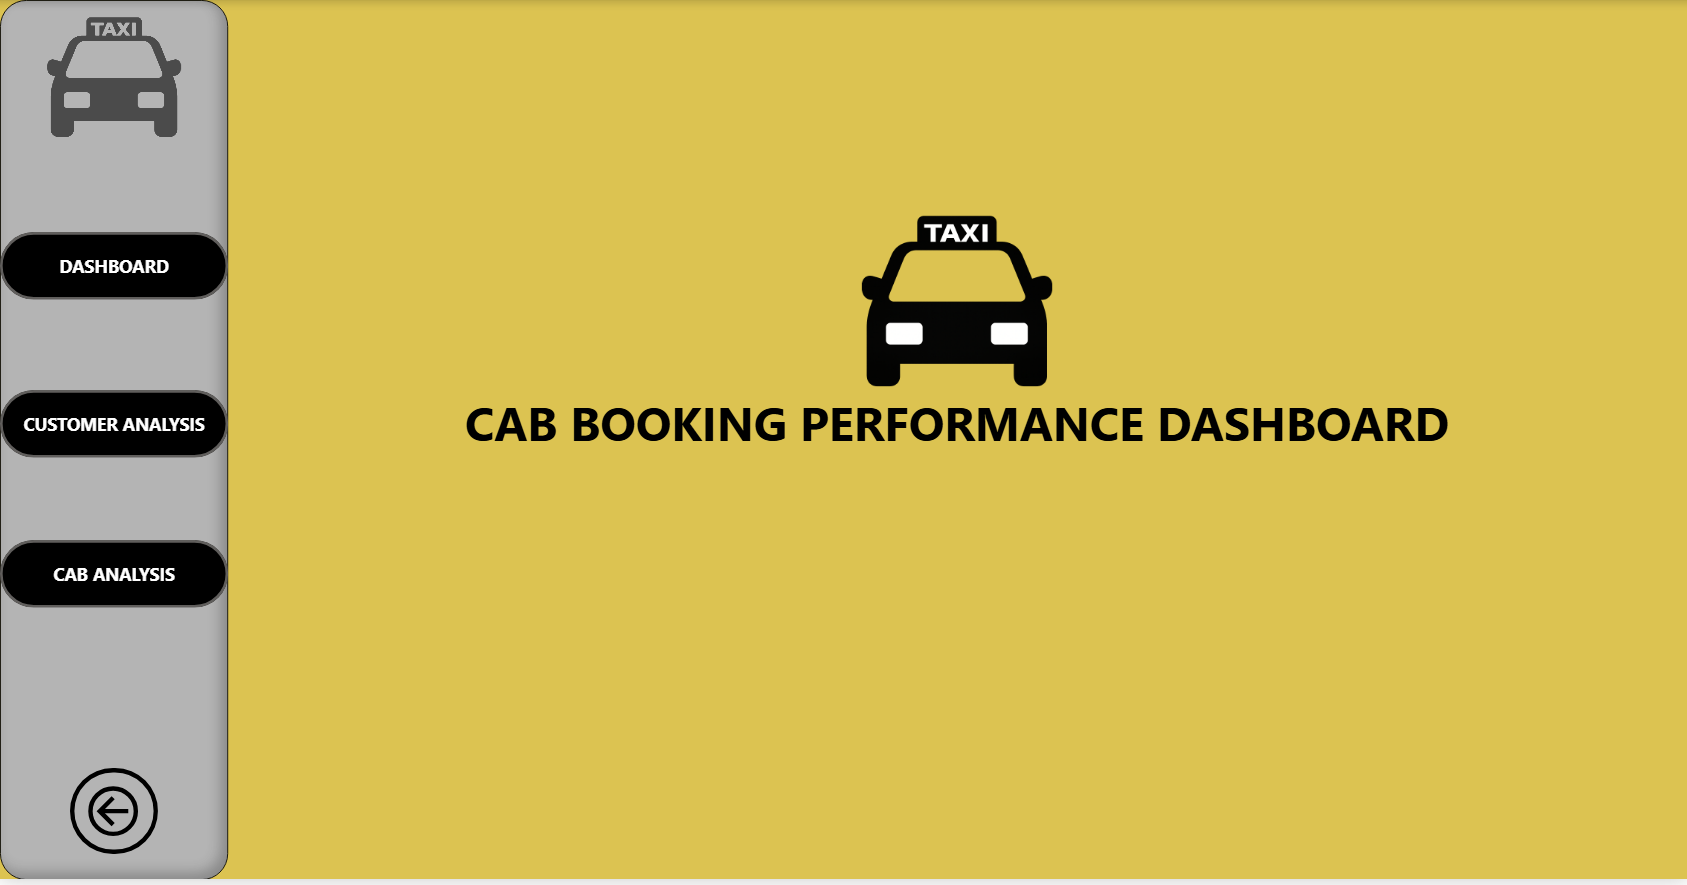

The page's visual inventory and layout, read from the dashboard file:
{"tool":"powerbi","page":{"name":"HOME","canvas":[1920,1000],"ordinal":0},"visuals":[{"type":"textbox","box":[0,0,259.3,1000.9],"z":0},{"type":"actionButton","box":[0,264.3,259.5,76.9],"z":1000},{"type":"actionButton","box":[0,444.6,259.5,76.9],"z":2000},{"type":"actionButton","box":[0,615.2,259.5,76.9],"z":3000},{"type":"image","box":[0,11.4,259.3,152.4],"z":4000},{"type":"actionButton","box":[79.6,873.6,100.1,97.8],"z":5000},{"type":"textbox","box":[257.1,439.7,1662.9,88.9],"z":6000},{"type":"image","box":[966.8,234.3,243.4,216.1],"z":7001}]}

Visuals, with their boxes in screenshot pixels (x1, y1, x2, y2), scaled from the page's 1920x1000 canvas onto the 1687x885 screenshot:
textbox: box(0, 0, 228, 884)
actionButton: box(0, 234, 228, 302)
actionButton: box(0, 393, 228, 462)
actionButton: box(0, 544, 228, 613)
image: box(0, 10, 228, 145)
actionButton: box(70, 773, 158, 860)
textbox: box(226, 389, 1686, 468)
image: box(849, 207, 1063, 399)
